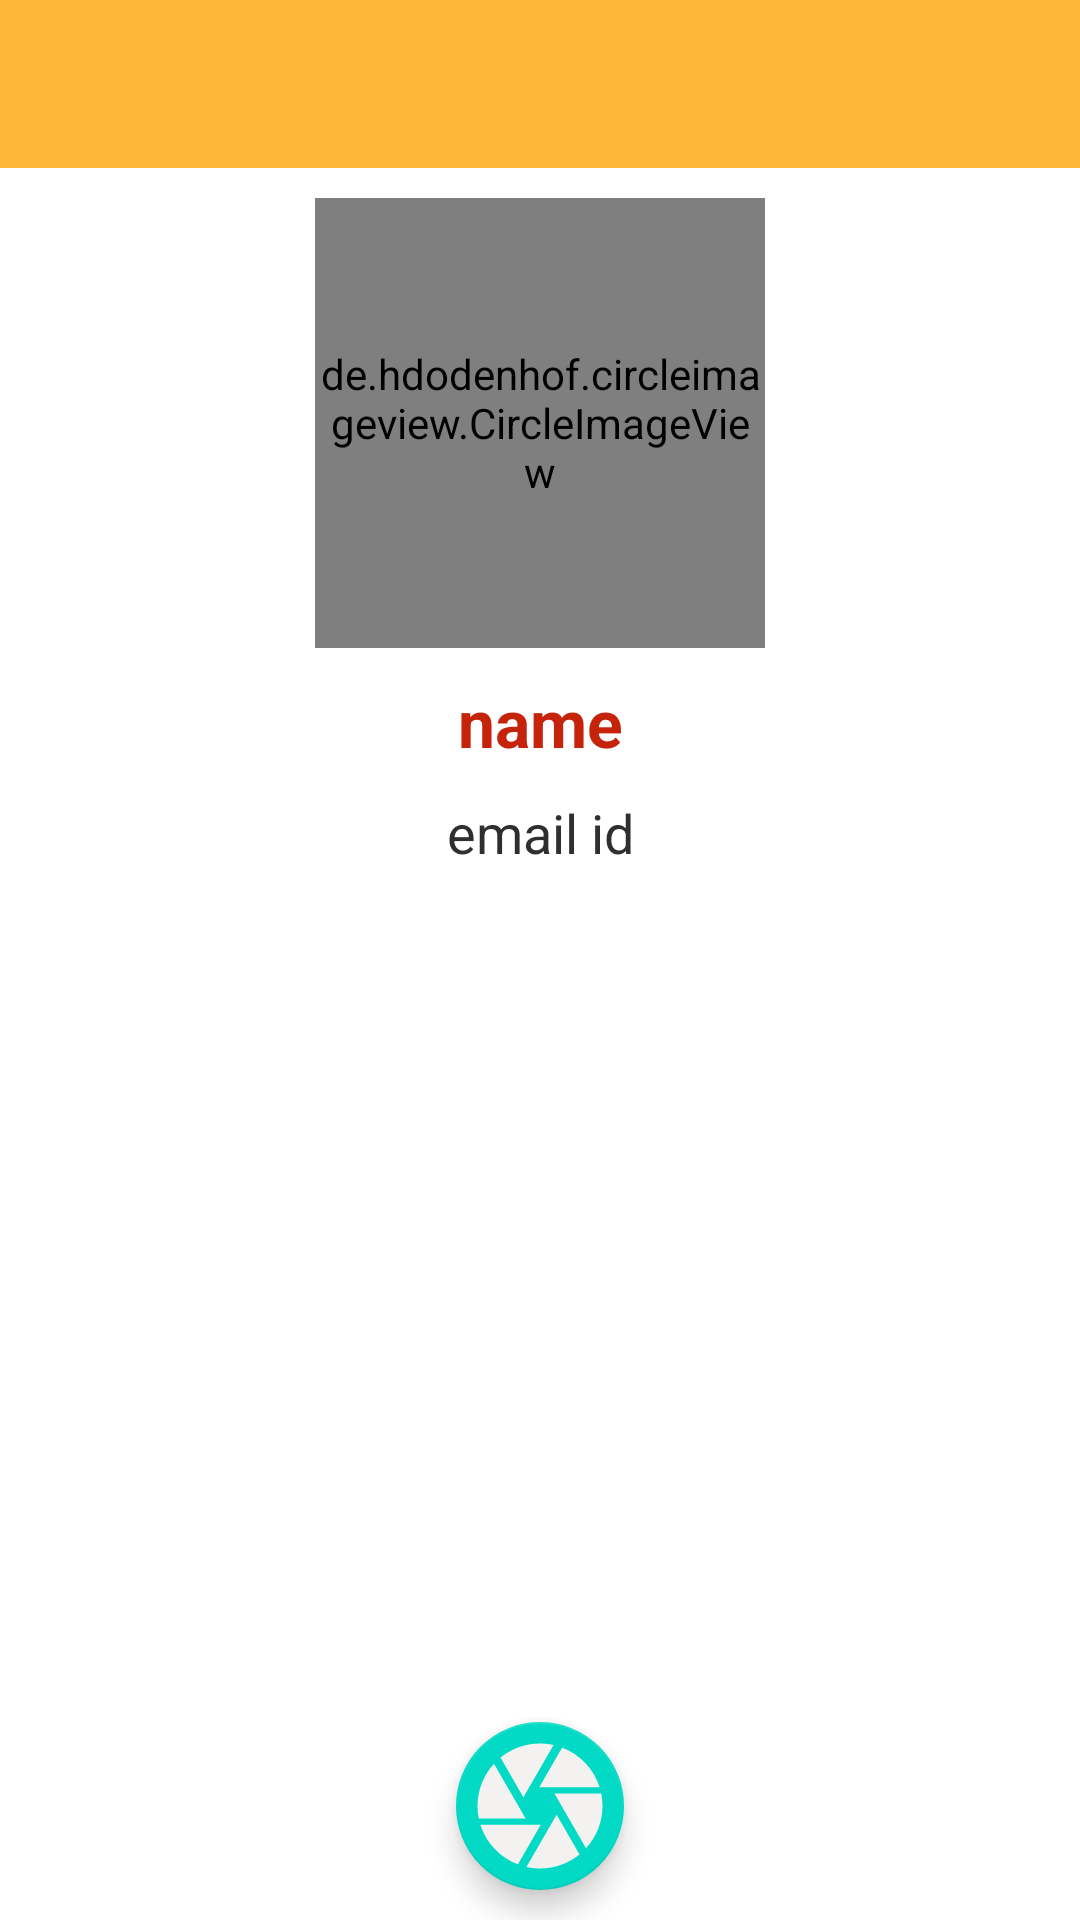

Named icons in this screenshot (1080x1920) and their bounding boxes, (x1, y1, x2, y2):
camera: (456, 1722, 624, 1890)
